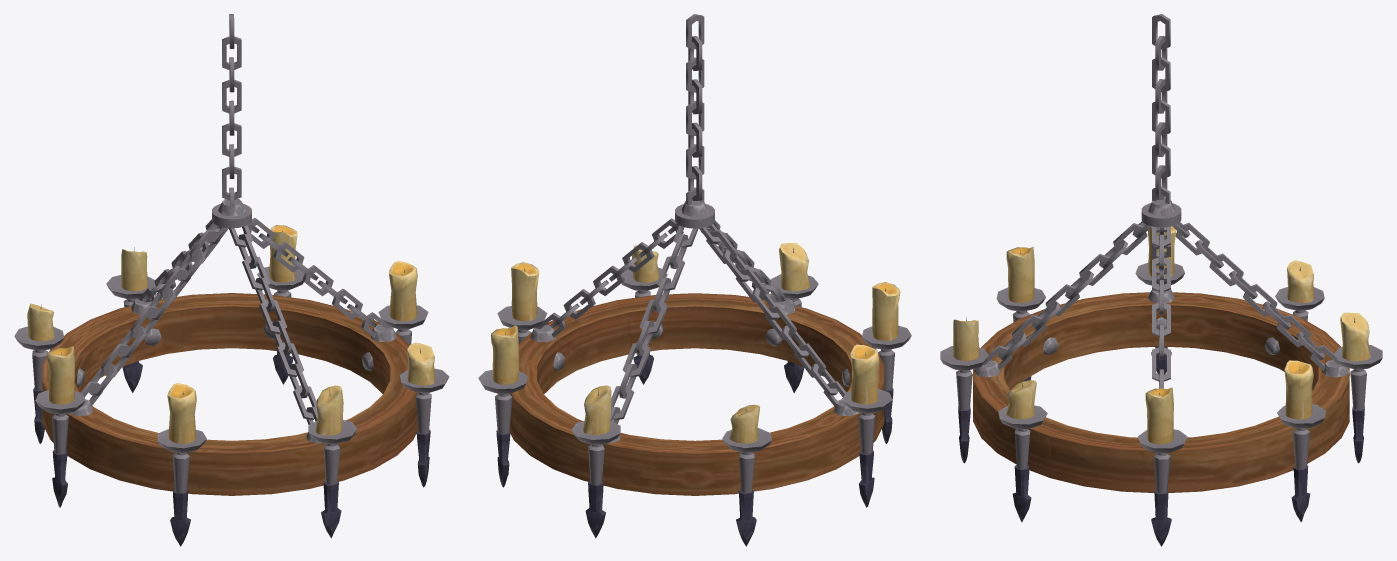
The model's file is chandelier.glb.
The picture shows the model from 3 angles, left to right: view 1: azimuth 30°, elevation 25°; view 2: azimuth 150°, elevation 25°; view 3: azimuth 270°, elevation 25°; orthographic projection.
Parts seen in each view (by area): view 1: Chandelier; view 2: Chandelier; view 3: Chandelier.
Part boxes in pixels (x1=…): Chandelier: x1=14, y1=14, x2=449, y2=546; Chandelier: x1=478, y1=14, x2=911, y2=546; Chandelier: x1=940, y1=14, x2=1382, y2=546.
Size of the model in its own units: 1.3 by 1.46 by 1.3.
Materials: 3 (3 with a texture image).
